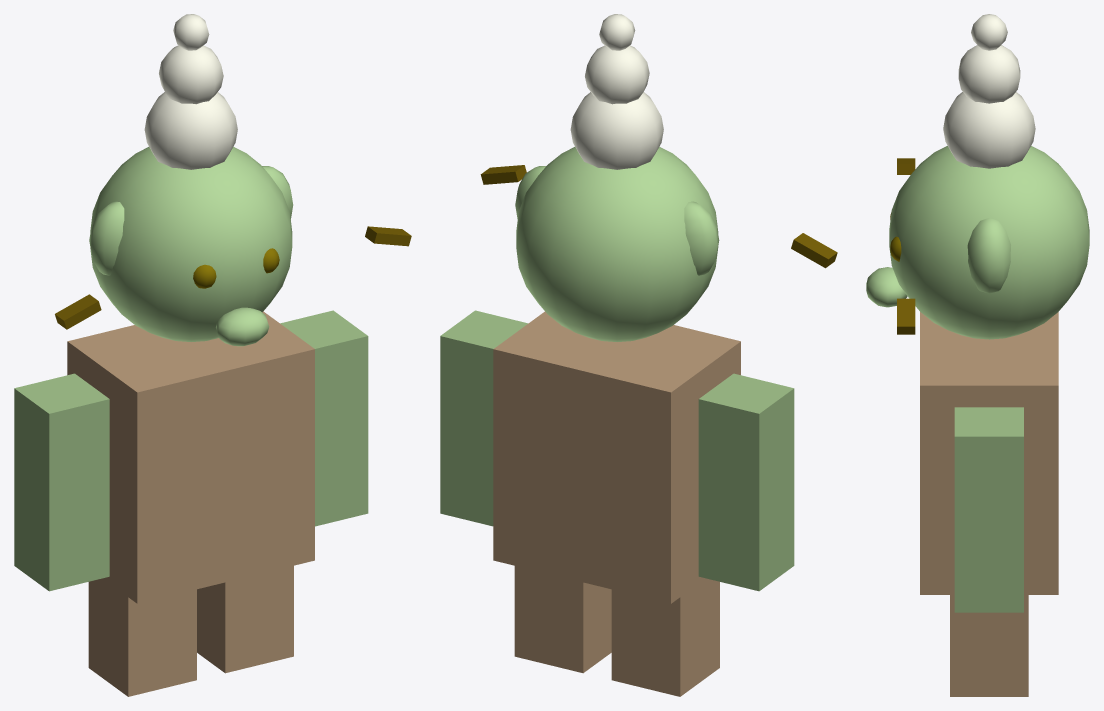
File: shrek.glb
3 views of the same model, side by side, from view 1: azimuth 30°, elevation 25°; view 2: azimuth 150°, elevation 25°; view 3: azimuth 270°, elevation 25° (orthographic).
Parts seen in each view (by area): view 1: body, head, arm-l, arm-r, leg-l, leg-r, onion-1, onion-2, ear-l, nose, onion-3, brow-l (+1 smaller); view 2: body, head, arm-l, arm-r, leg-l, leg-r, onion-1, onion-2, ear-l, onion-3, brow-l, brow-r; view 3: head, body, arm-r, leg-r, onion-1, onion-2, ear-r, nose, onion-3, brow-r.
Boxes of the visible parts, left/top/right/bottom form: body: left=67, top=311, right=314, bottom=603; head: left=90, top=147, right=292, bottom=341; arm-l: left=14, top=373, right=109, bottom=591; arm-r: left=280, top=310, right=368, bottom=526; leg-l: left=88, top=578, right=196, bottom=696; leg-r: left=197, top=565, right=293, bottom=673; onion-1: left=144, top=92, right=237, bottom=169; onion-2: left=159, top=45, right=223, bottom=104; ear-l: left=89, top=201, right=124, bottom=275; nose: left=216, top=307, right=269, bottom=346; onion-3: left=173, top=14, right=209, bottom=50; brow-l: left=55, top=294, right=101, bottom=329; body: left=493, top=311, right=740, bottom=603; head: left=516, top=147, right=718, bottom=341; arm-l: left=698, top=373, right=794, bottom=591; arm-r: left=440, top=310, right=527, bottom=526; leg-l: left=611, top=578, right=719, bottom=696; leg-r: left=514, top=566, right=611, bottom=673; onion-1: left=570, top=92, right=663, bottom=169; onion-2: left=585, top=45, right=649, bottom=104; ear-l: left=684, top=201, right=719, bottom=275; onion-3: left=599, top=14, right=635, bottom=50; brow-l: left=791, top=233, right=837, bottom=268; brow-r: left=480, top=165, right=526, bottom=184; head: left=889, top=145, right=1089, bottom=339; body: left=920, top=312, right=1058, bottom=594; arm-r: left=954, top=407, right=1023, bottom=612; leg-r: left=950, top=595, right=1028, bottom=696; onion-1: left=943, top=92, right=1035, bottom=168; onion-2: left=958, top=45, right=1020, bottom=103; ear-r: left=967, top=218, right=1010, bottom=293; nose: left=866, top=267, right=907, bottom=307; onion-3: left=971, top=14, right=1007, bottom=50; brow-r: left=897, top=298, right=915, bottom=334.
Size of the model in its own units: 4.3 by 7.65 by 2.41.
